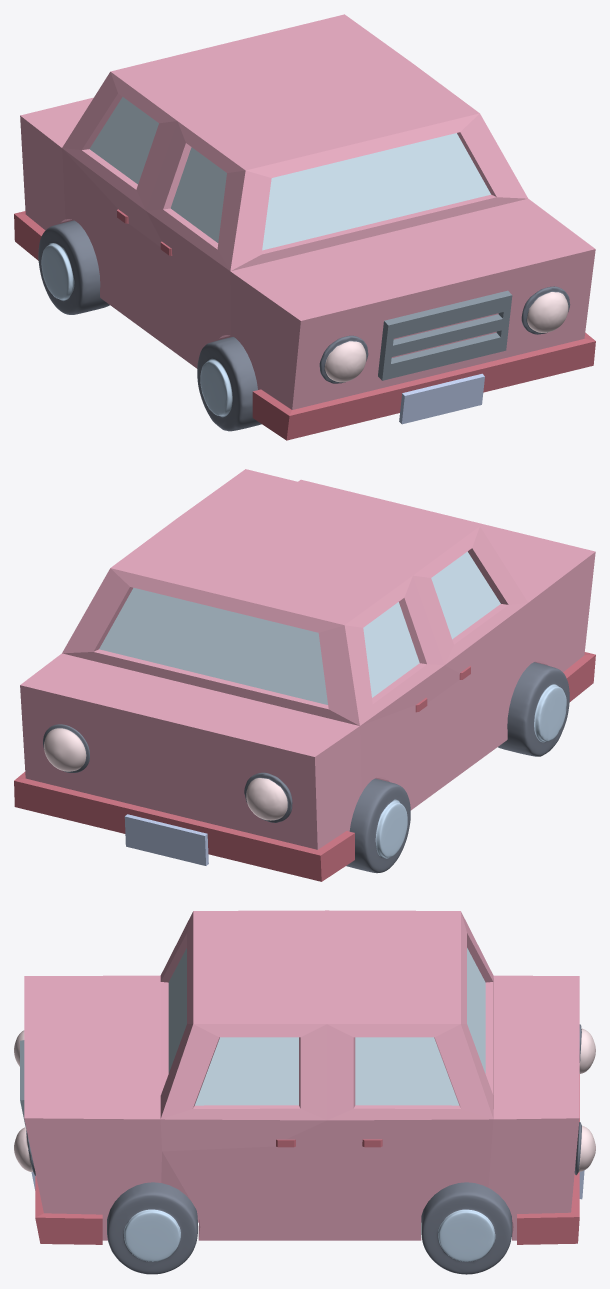
File: pink_car.fbx
3 renders of one model, top to bottom at view 1: azimuth 30°, elevation 25°; view 2: azimuth 150°, elevation 25°; view 3: azimuth 270°, elevation 25°, orthographic.
Parts seen in each view (by area): view 1: car, wheels, plate; view 2: car, wheels, plate; view 3: car, wheels, plate.
Boxes of the visible parts, bbox=[...] form: car: bbox=[14, 14, 595, 440]; wheels: bbox=[38, 220, 570, 431]; plate: bbox=[378, 290, 512, 424]; car: bbox=[14, 469, 595, 881]; wheels: bbox=[43, 662, 569, 873]; plate: bbox=[124, 814, 208, 865]; car: bbox=[24, 910, 579, 1244]; wheels: bbox=[14, 1024, 595, 1274]; plate: bbox=[20, 1040, 584, 1199].
Bounding box in the file's own units: 235 × 154 × 353.
